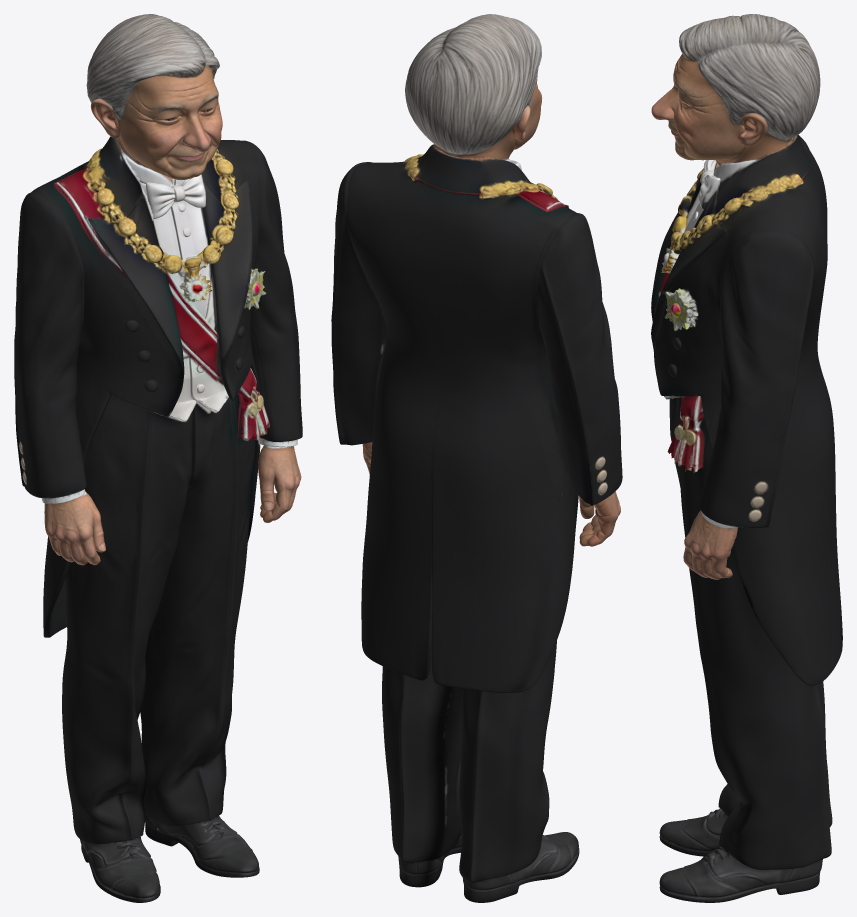
File: tenshi.glb
The picture shows the model from 3 angles, left to right: view 1: azimuth 30°, elevation 25°; view 2: azimuth 150°, elevation 25°; view 3: azimuth 270°, elevation 25°; orthographic projection.
Visible parts, largest first — view 1: tripo_node_3cc65802-c008-4360-a74b-9f5bb9d2386c; view 2: tripo_node_3cc65802-c008-4360-a74b-9f5bb9d2386c; view 3: tripo_node_3cc65802-c008-4360-a74b-9f5bb9d2386c.
Boxes of the visible parts, bbox=[...] form: tripo_node_3cc65802-c008-4360-a74b-9f5bb9d2386c: bbox=[14, 14, 302, 902]; tripo_node_3cc65802-c008-4360-a74b-9f5bb9d2386c: bbox=[331, 14, 622, 902]; tripo_node_3cc65802-c008-4360-a74b-9f5bb9d2386c: bbox=[651, 14, 842, 902].
Bounding box in the file's own units: 0.3303 × 0.9804 × 0.2003.
Materials: 1 (1 with a texture image).
